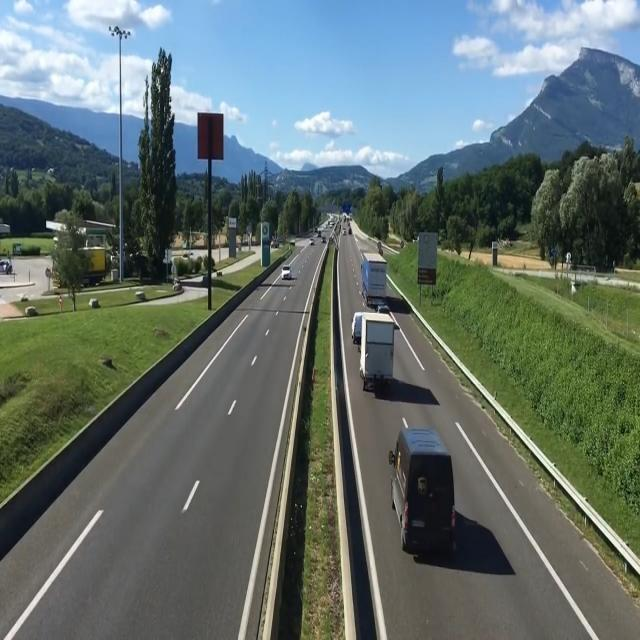Car: (280, 265, 292, 285), (308, 236, 318, 248), (319, 234, 328, 243)
Truck: (360, 316, 396, 386), (359, 252, 390, 304)
Van: (389, 421, 464, 562)
